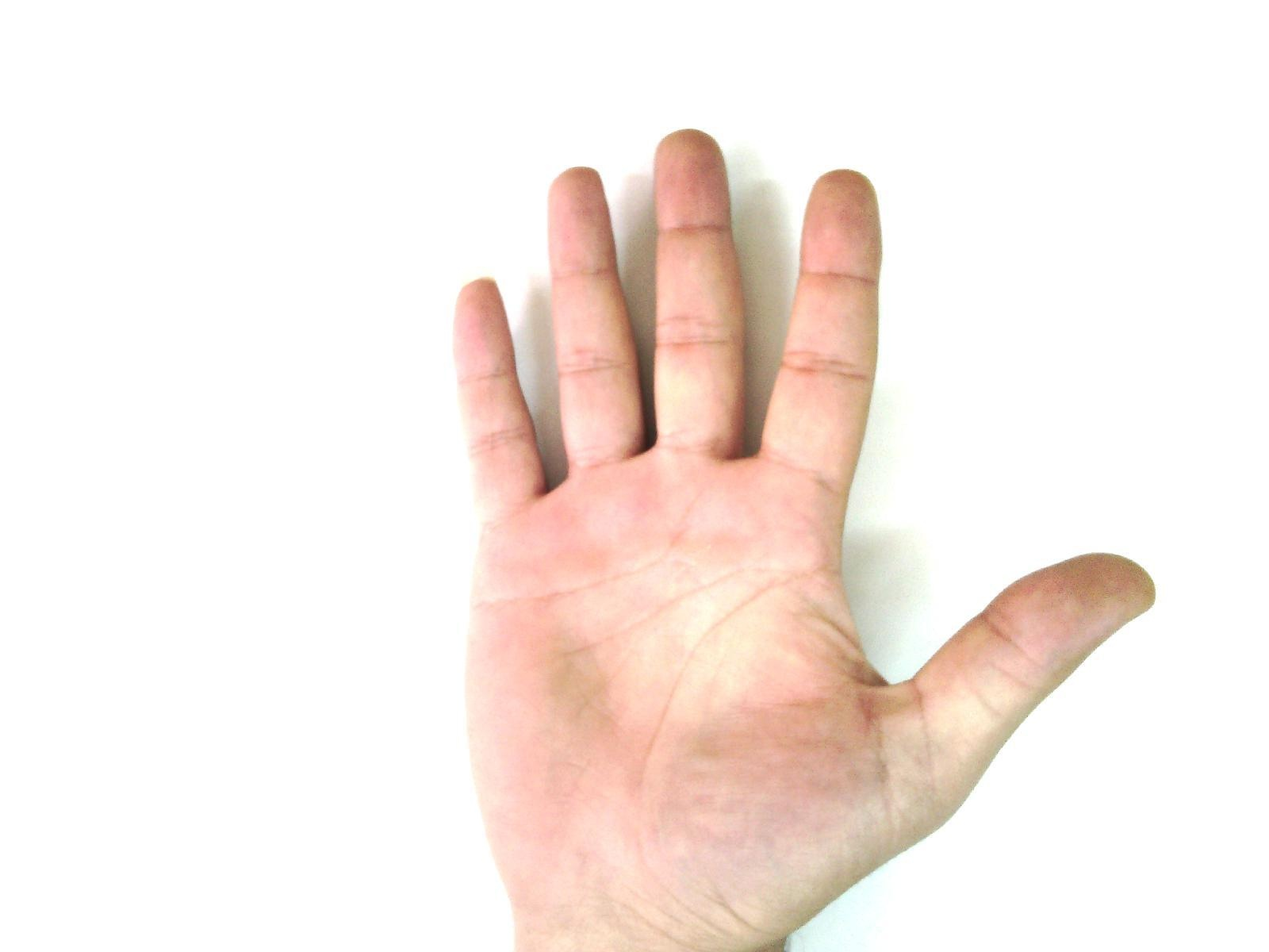open_palm: (447, 127, 1157, 951)
